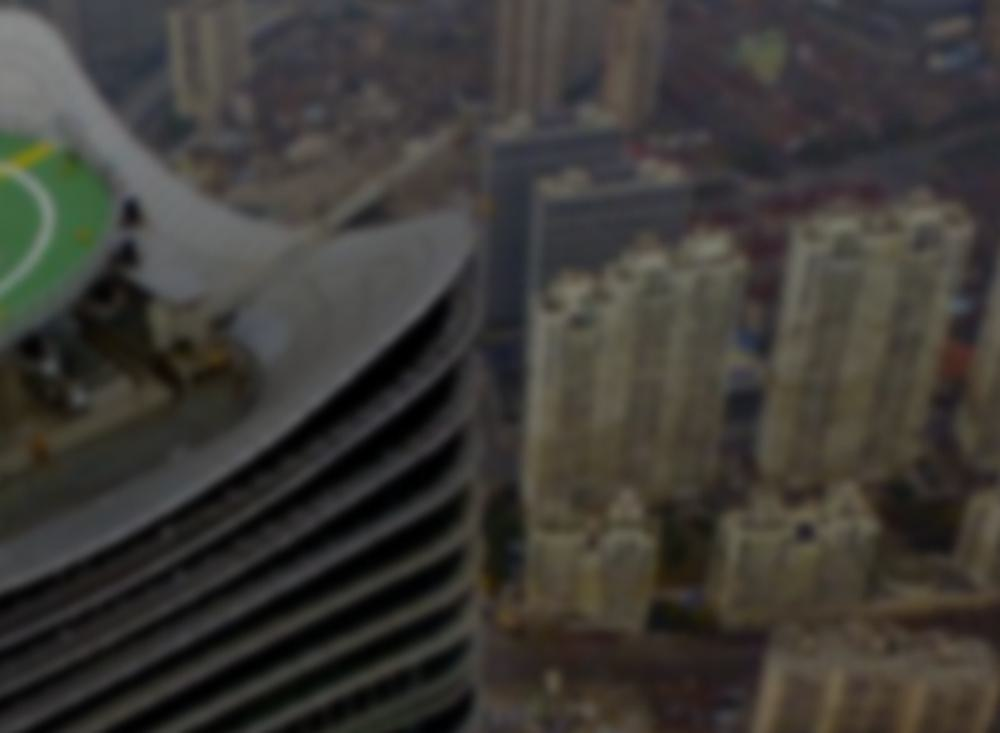Apron: (1, 130, 107, 326)
